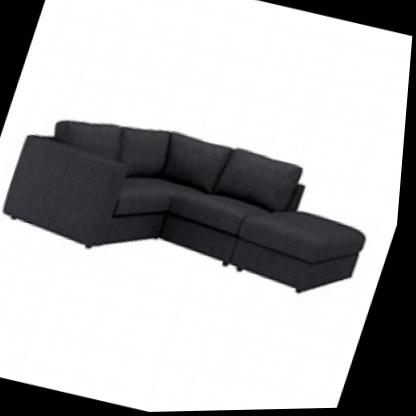Sofa: (0, 51, 412, 345)
